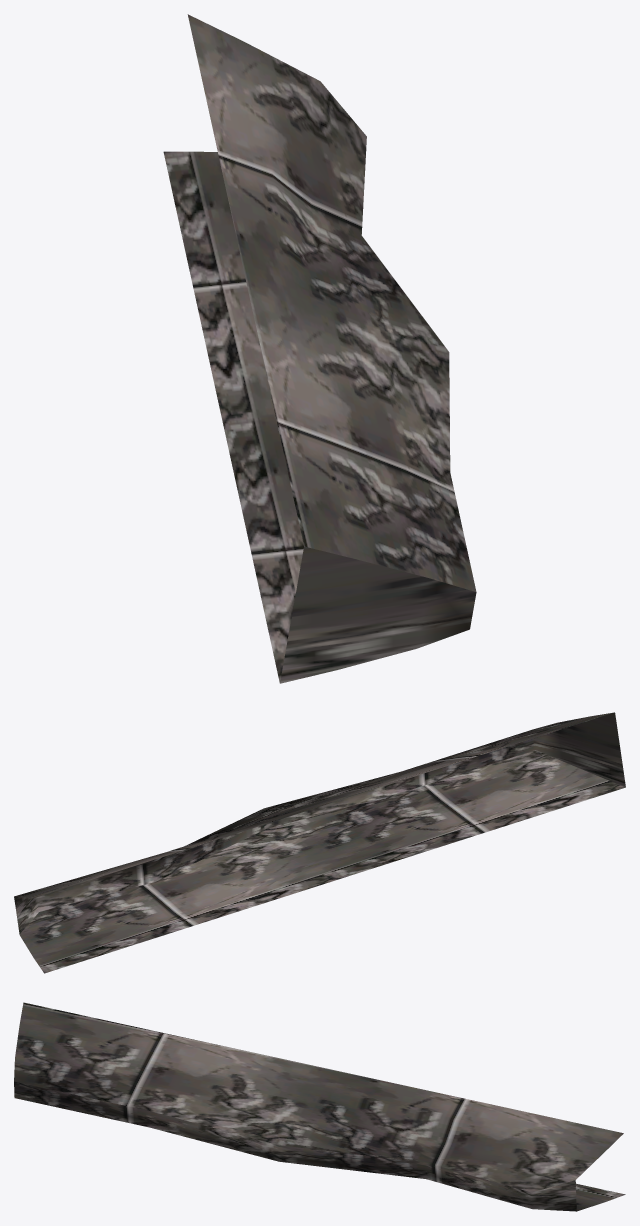
The model's file is CH09_SMAUG_PLAYSURFACE_LAIR44.fbx.
3 views of the same model, one above another, from view 1: azimuth 30°, elevation 25°; view 2: azimuth 150°, elevation 25°; view 3: azimuth 270°, elevation 25° (orthographic). The views are drawn at different scales.
Visible parts, largest first — view 1: CH09_SMAUG_PLAYSURFACE_LAIR44; view 2: CH09_SMAUG_PLAYSURFACE_LAIR44; view 3: CH09_SMAUG_PLAYSURFACE_LAIR44.
Part boxes in pixels (x1,y1,x2,y2): CH09_SMAUG_PLAYSURFACE_LAIR44: [163, 14, 476, 683]; CH09_SMAUG_PLAYSURFACE_LAIR44: [14, 712, 625, 973]; CH09_SMAUG_PLAYSURFACE_LAIR44: [14, 1002, 625, 1211].
Bounding box in the file's own units: 28003 × 7161 × 50017.
1 material, 1 textured.
